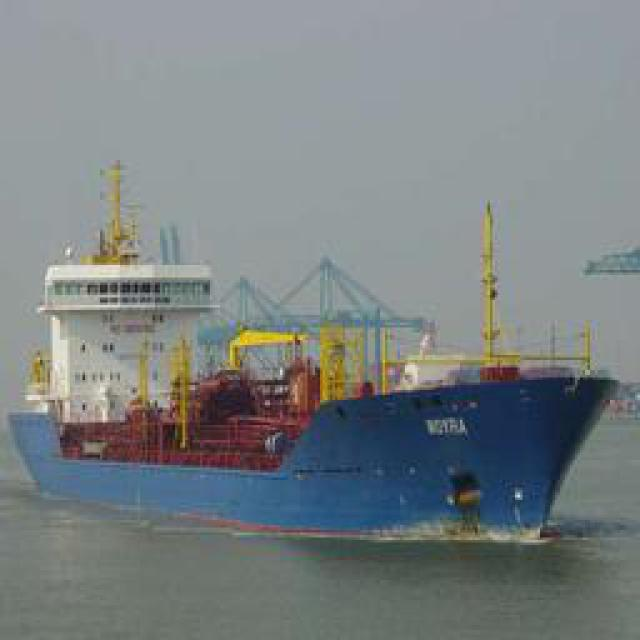Ship: (21, 223, 619, 541)
